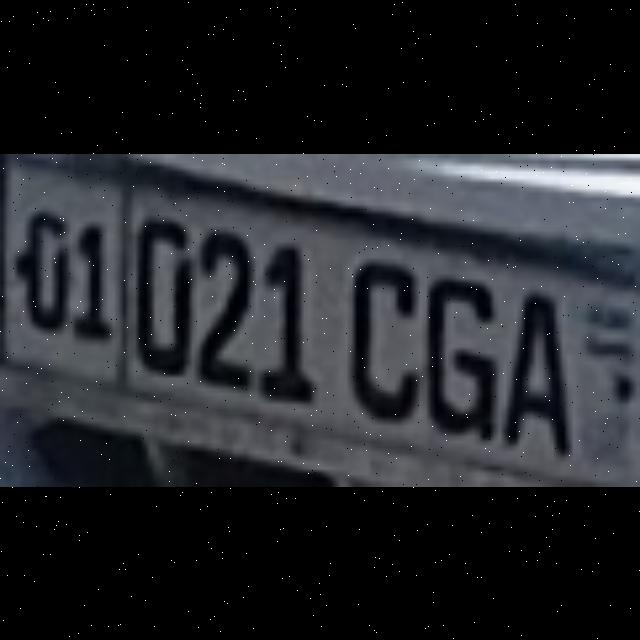0: (128, 212, 190, 371), (21, 206, 63, 328)
1: (254, 238, 312, 402), (69, 216, 111, 338)
2: (191, 222, 249, 381)
A: (498, 285, 566, 449)
C: (344, 253, 418, 417)
G: (418, 269, 492, 433)
